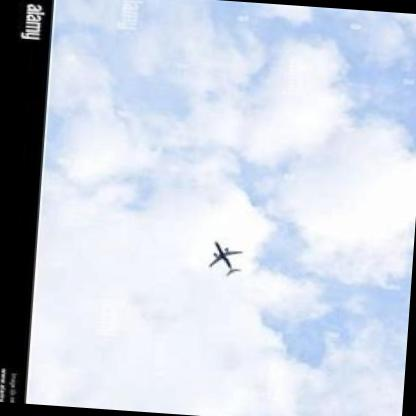plane: (202, 234, 249, 283)
